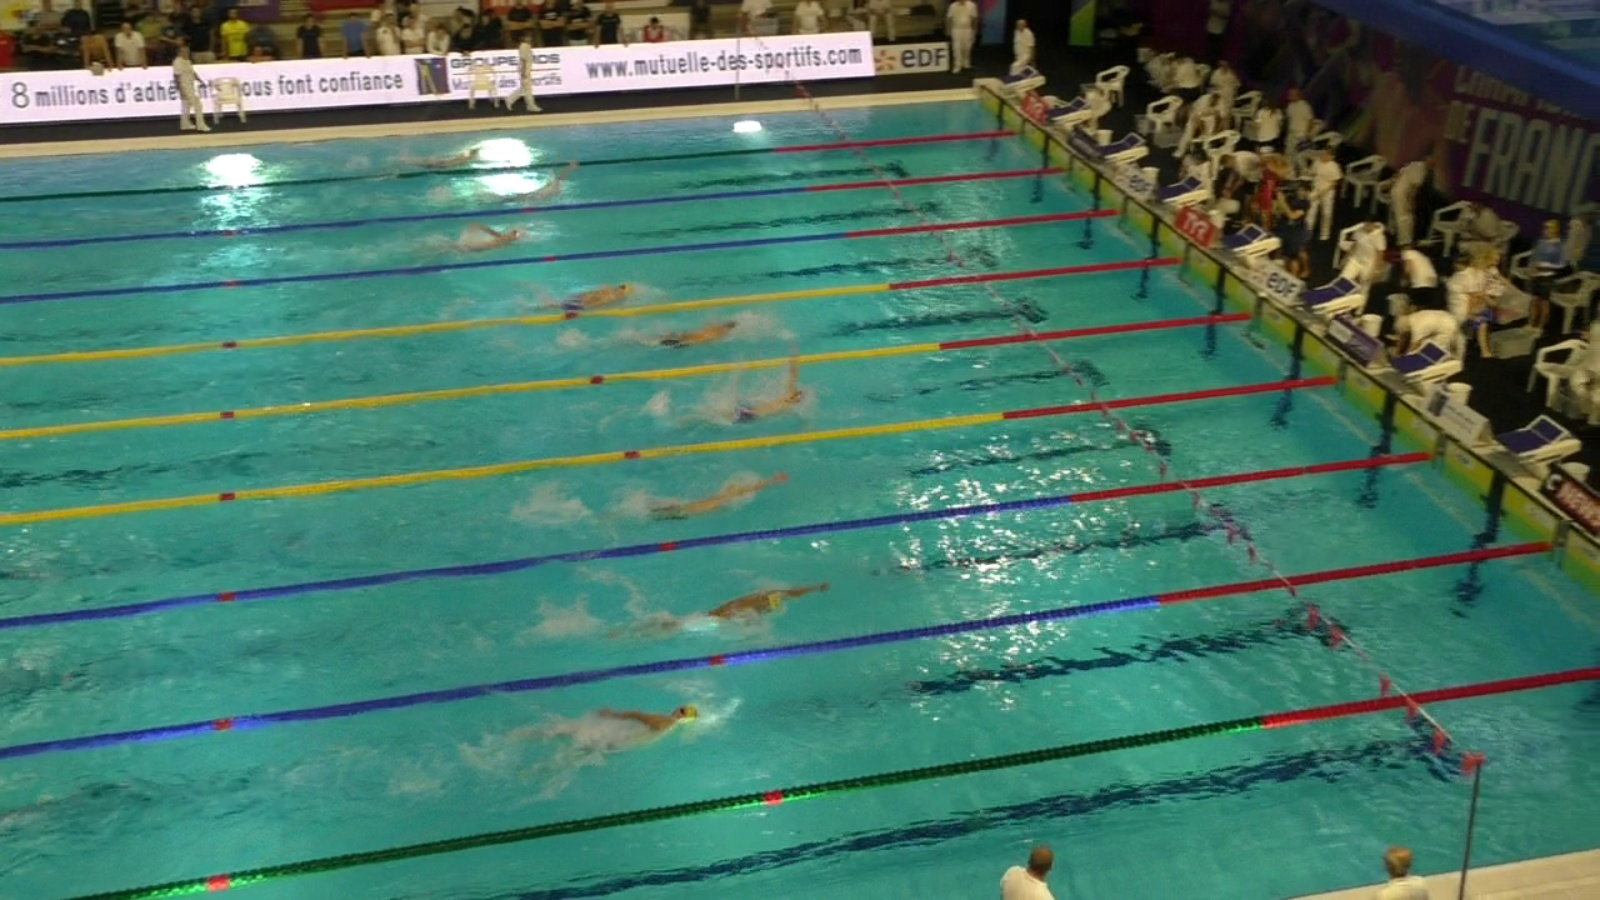swimmerwdd: (609, 577, 843, 637), (666, 353, 823, 435), (607, 469, 798, 531), (525, 697, 703, 762), (623, 312, 747, 355), (507, 277, 638, 316), (421, 215, 526, 263), (485, 169, 578, 207), (395, 148, 501, 167)
